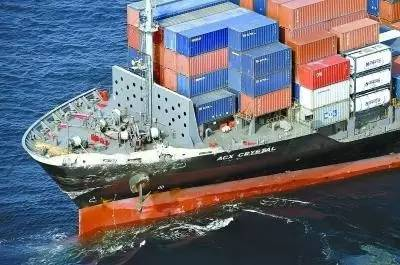Cargoship: (20, 1, 400, 232)
